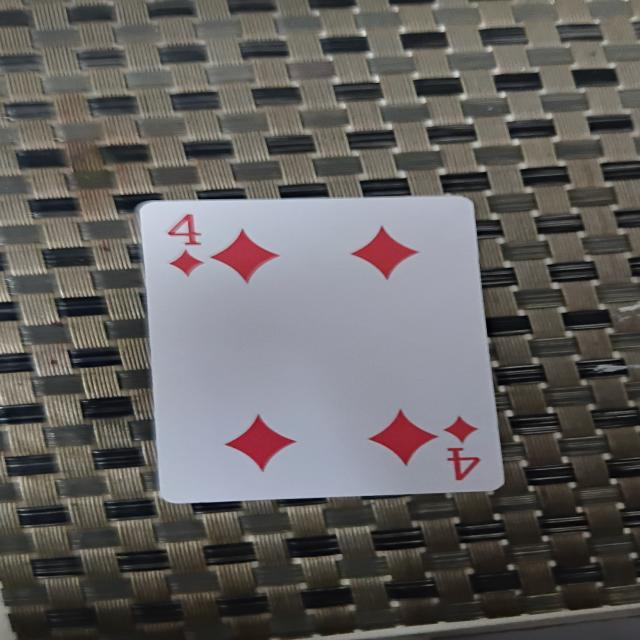4D: (142, 196, 513, 510)
